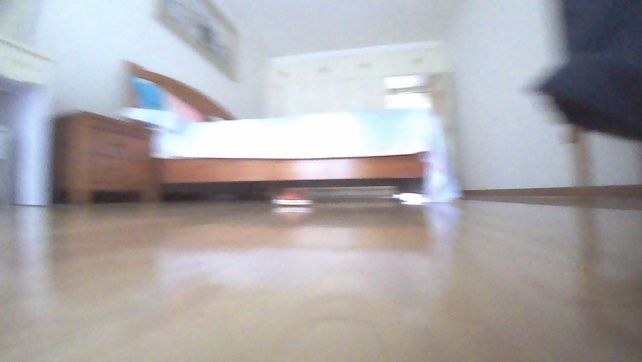bed: (117, 54, 465, 203)
cabinet: (51, 107, 151, 207)
